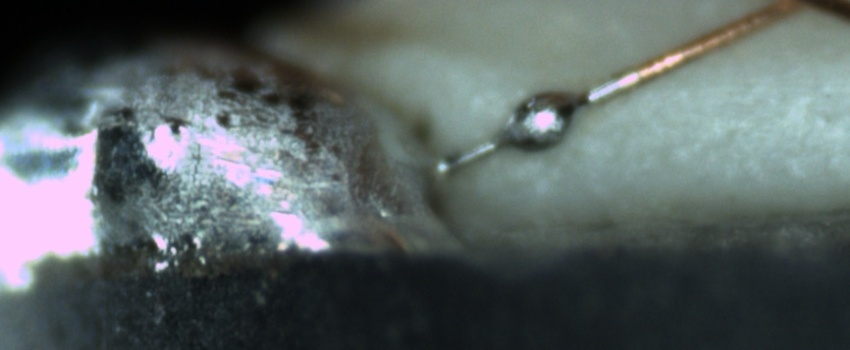DL: (636, 73, 850, 121)
TB: (499, 86, 581, 161)
TS: (452, 75, 627, 168)
TTCW: (427, 45, 676, 176)
